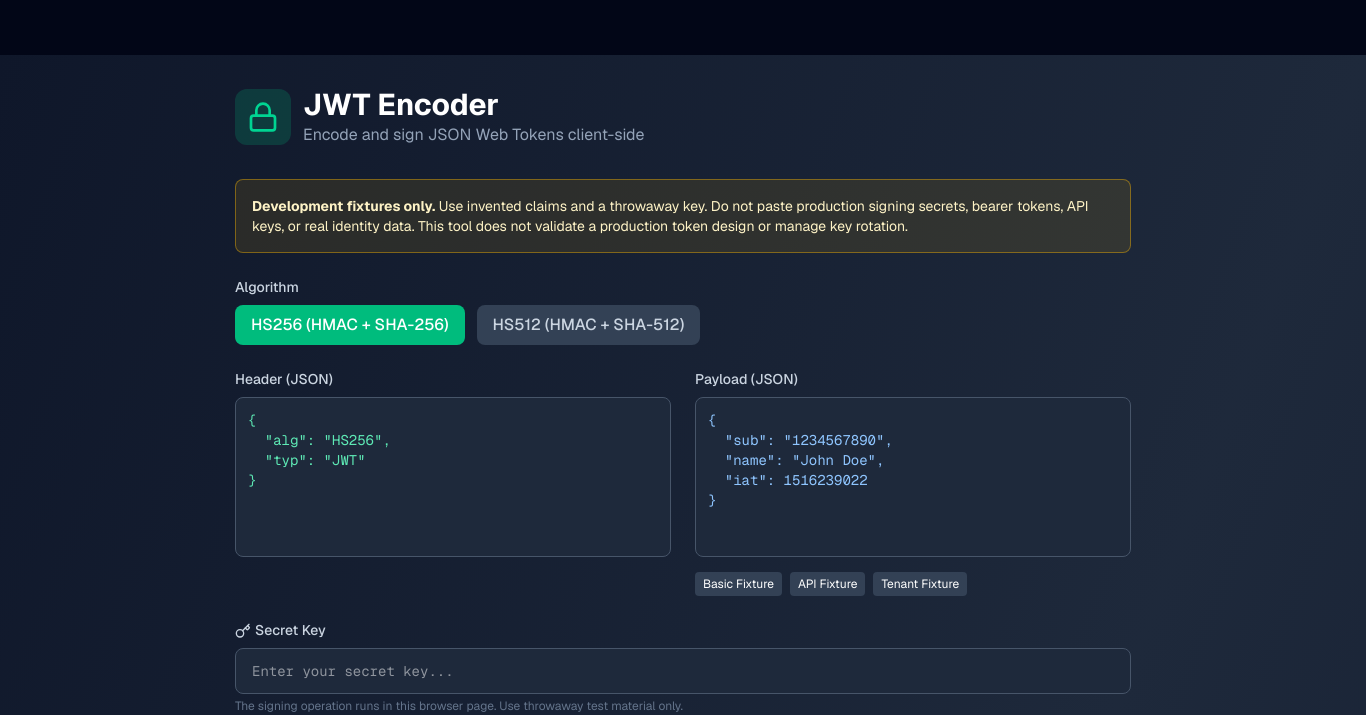
reports a non-object header instead of throwing
The width and height of the screenshot is (1366, 715).
Replace the text in the text box below "Header (JSON)" with "null": point(453, 477) [235,397,671,557]
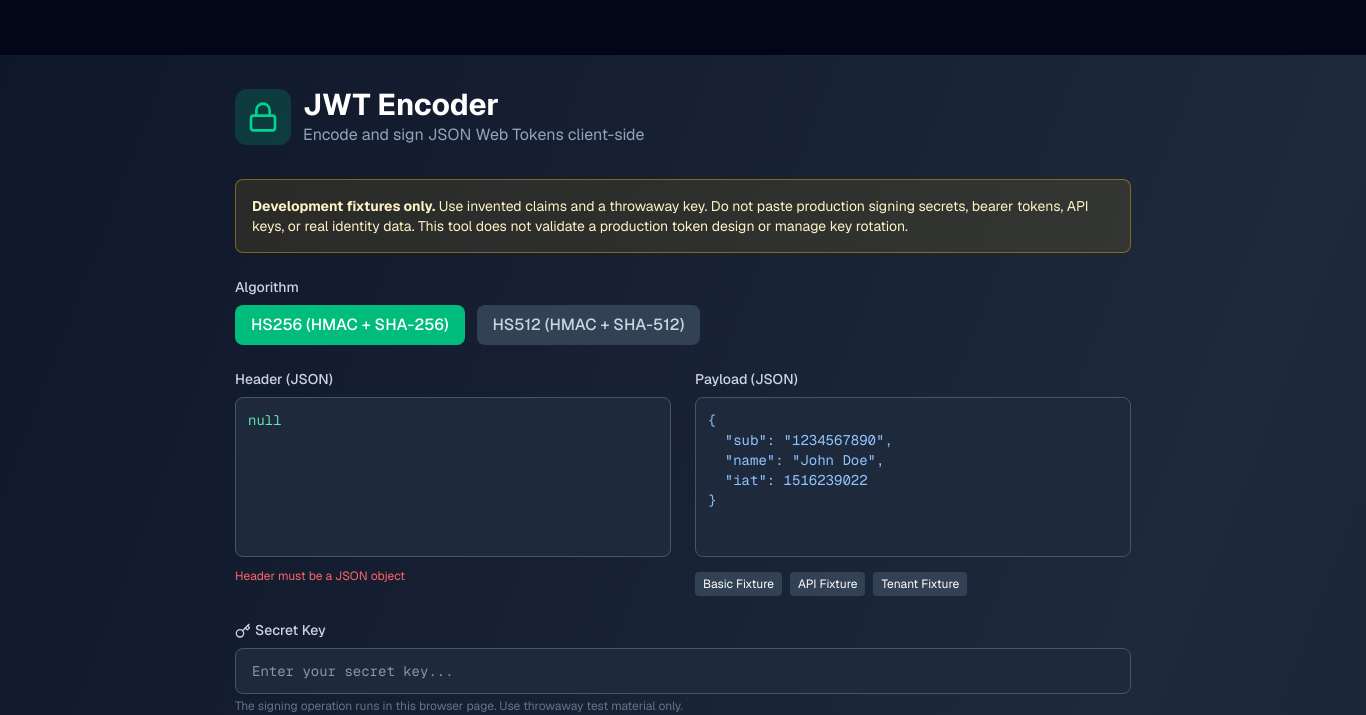
In the password field with placeholder "Enter your secret key...": point(683, 671) [235,648,1131,694], type "throwaway-test-secret"
(page scrolled)
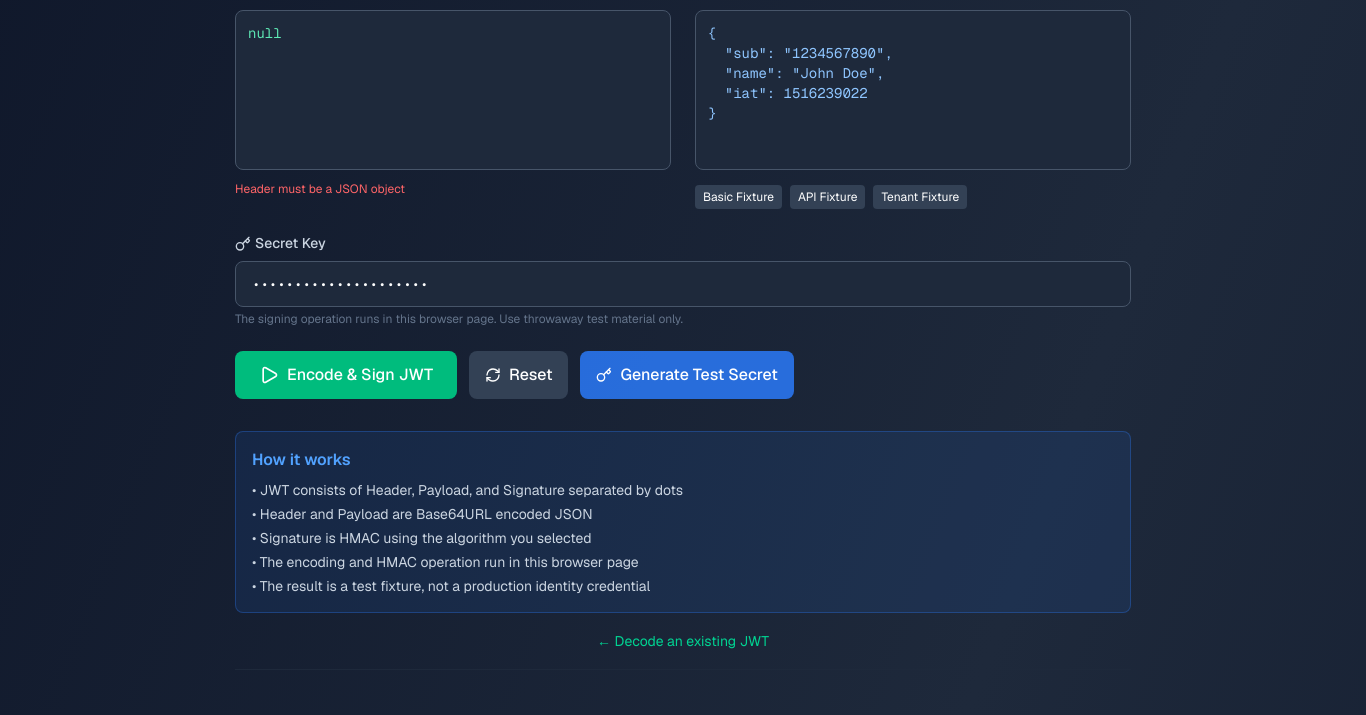
Result: the text "Header must be a JSON object" is shown at [235,181,405,197]
Click the button "Encode & Sign JWT": point(346, 375) [235,351,457,399]
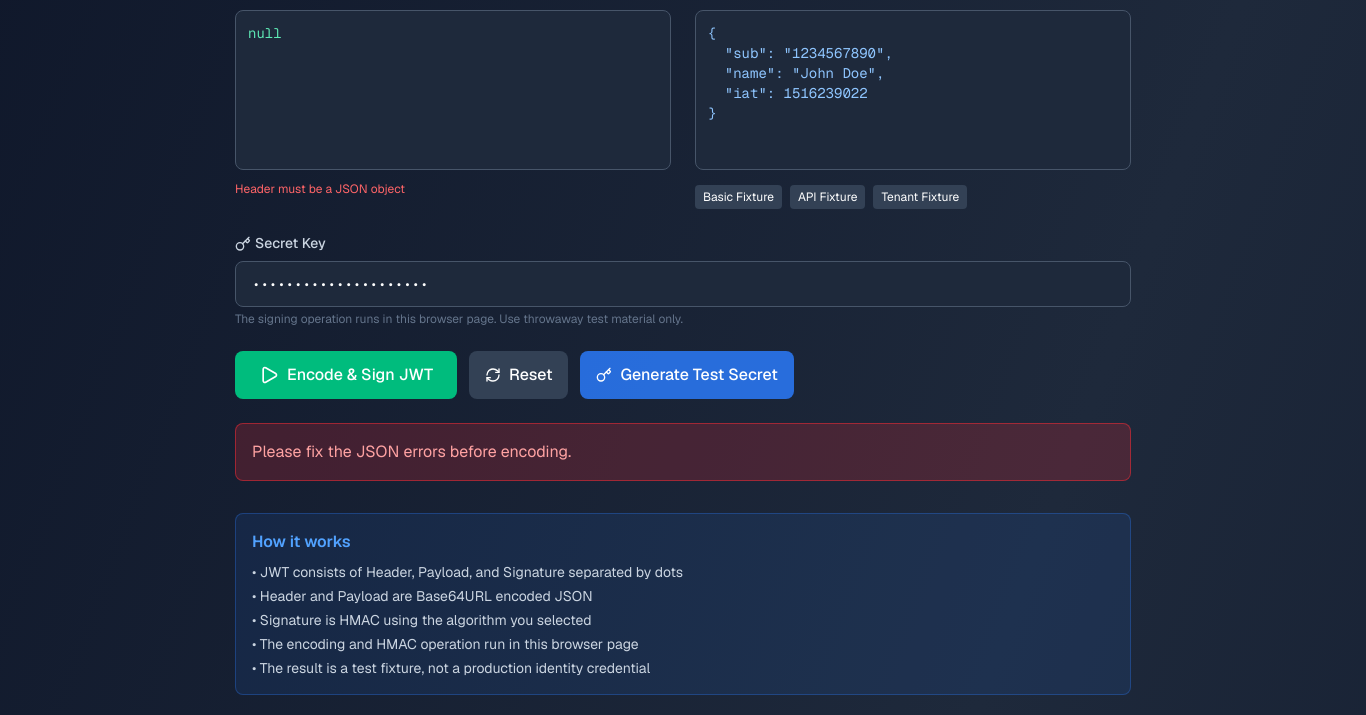
Result: the text "Please fix the JSON errors before encoding." is shown at [235,423,1131,481]
